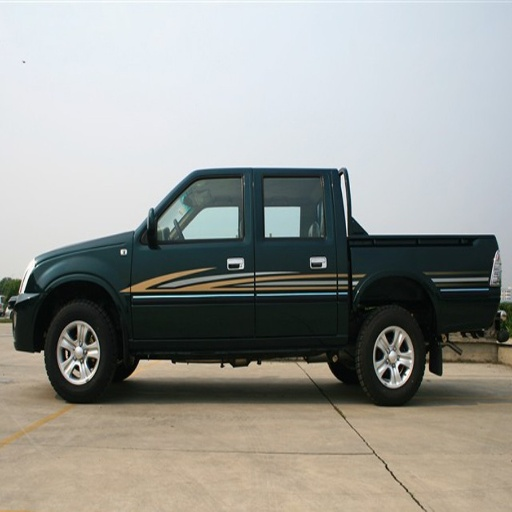trunk: (333, 236, 487, 338)
